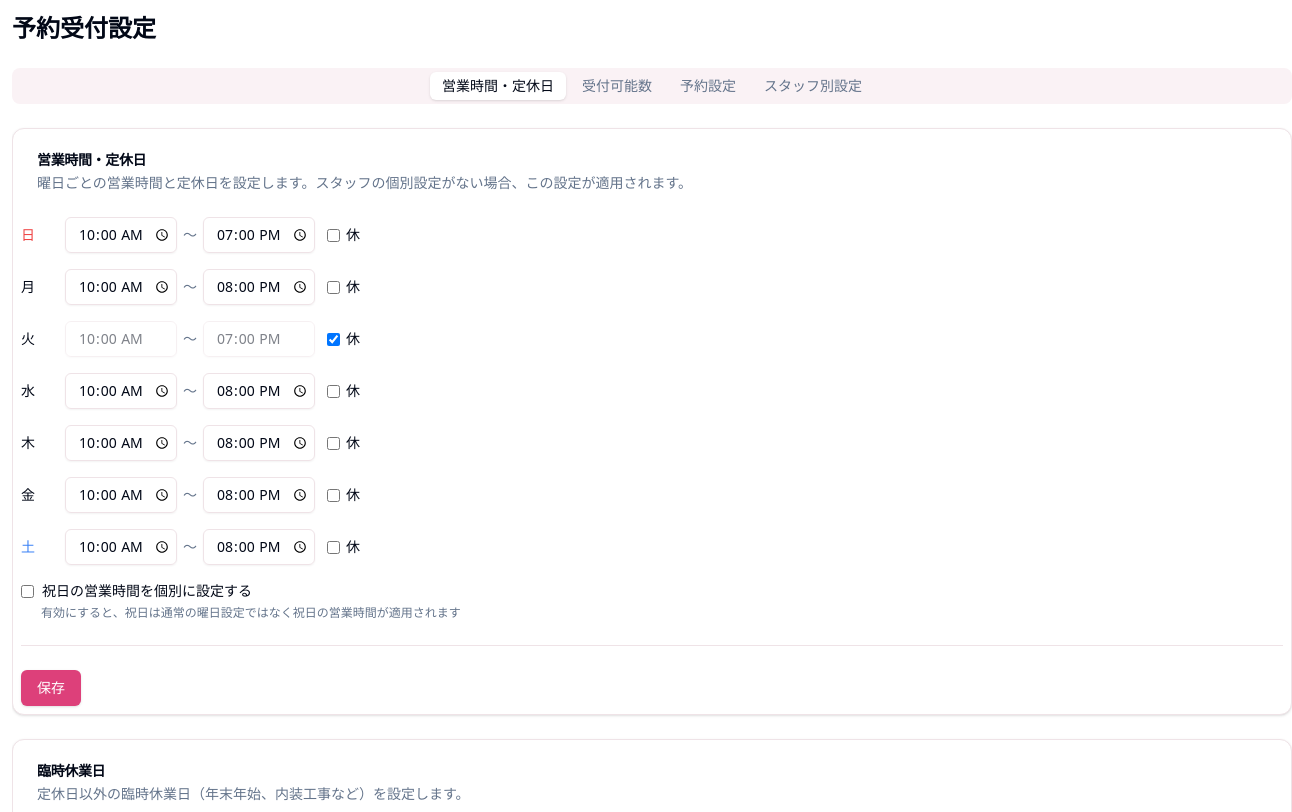
Test: ReservationSettings (予約受付設定) › 営業時間・定休日: one row per weekday, closed days are not sent, holiday hours have their own row
Expected: the heading "予約受付設定" is shown, [12, 11, 156, 44]
Expected: the tabs read "営業時間・定休日", "受付可能数", "予約設定", "スタッフ別設定", in this order, [430, 72, 566, 100]; [570, 72, 664, 100]; [668, 72, 748, 100]; [752, 72, 874, 100]
Replace the text in the time field named "月曜 開店" with "11:00" at (121,287), box [65, 269, 177, 305]
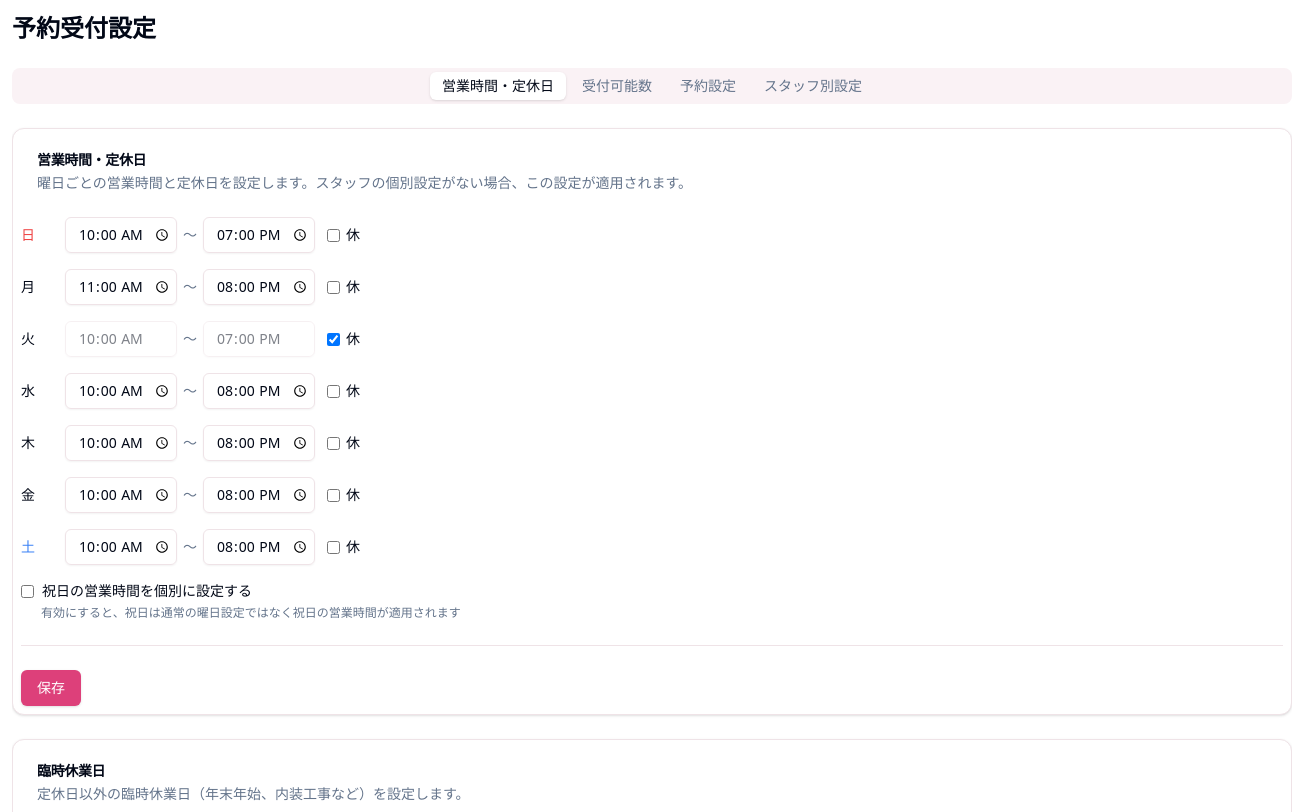
Click the checkbox named "水曜 休" at (334,391), box [327, 384, 340, 398]
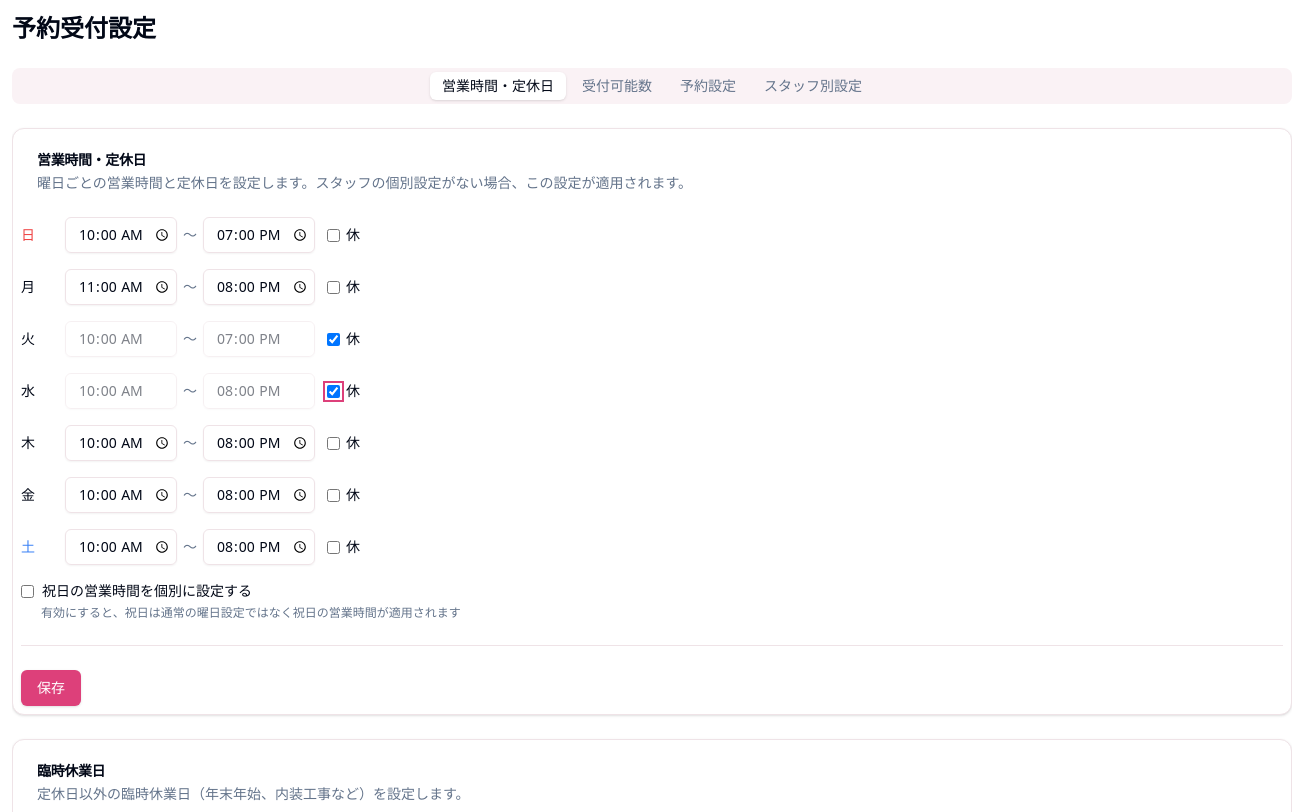
祝日の営業時間を個別に設定する is saved at once and adds the 祝 row
Click the checkbox labelled "祝日の営業時間を個別に設定する" at (28,591), box [21, 584, 34, 598]
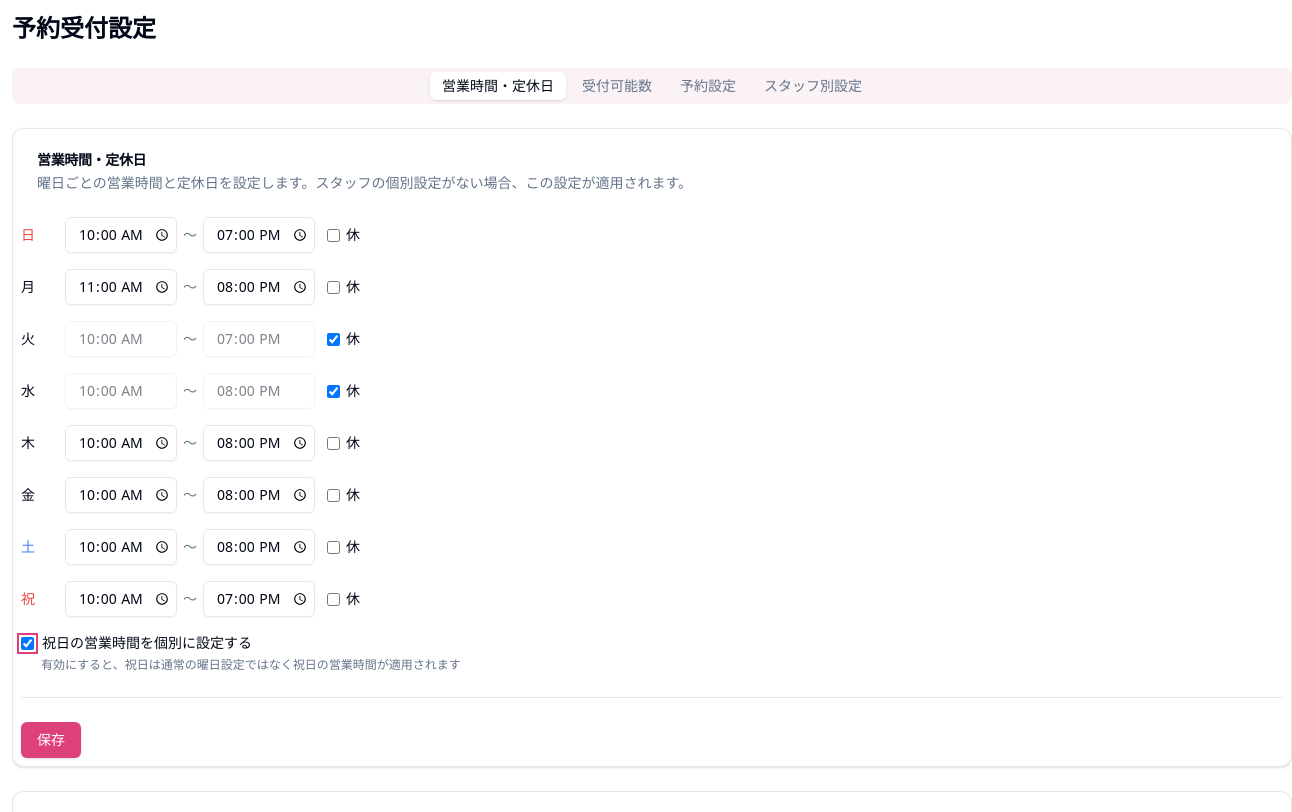
Replace the text in the time field named "祝日 閉店" with "18:00" at (259,599), box [203, 581, 315, 617]
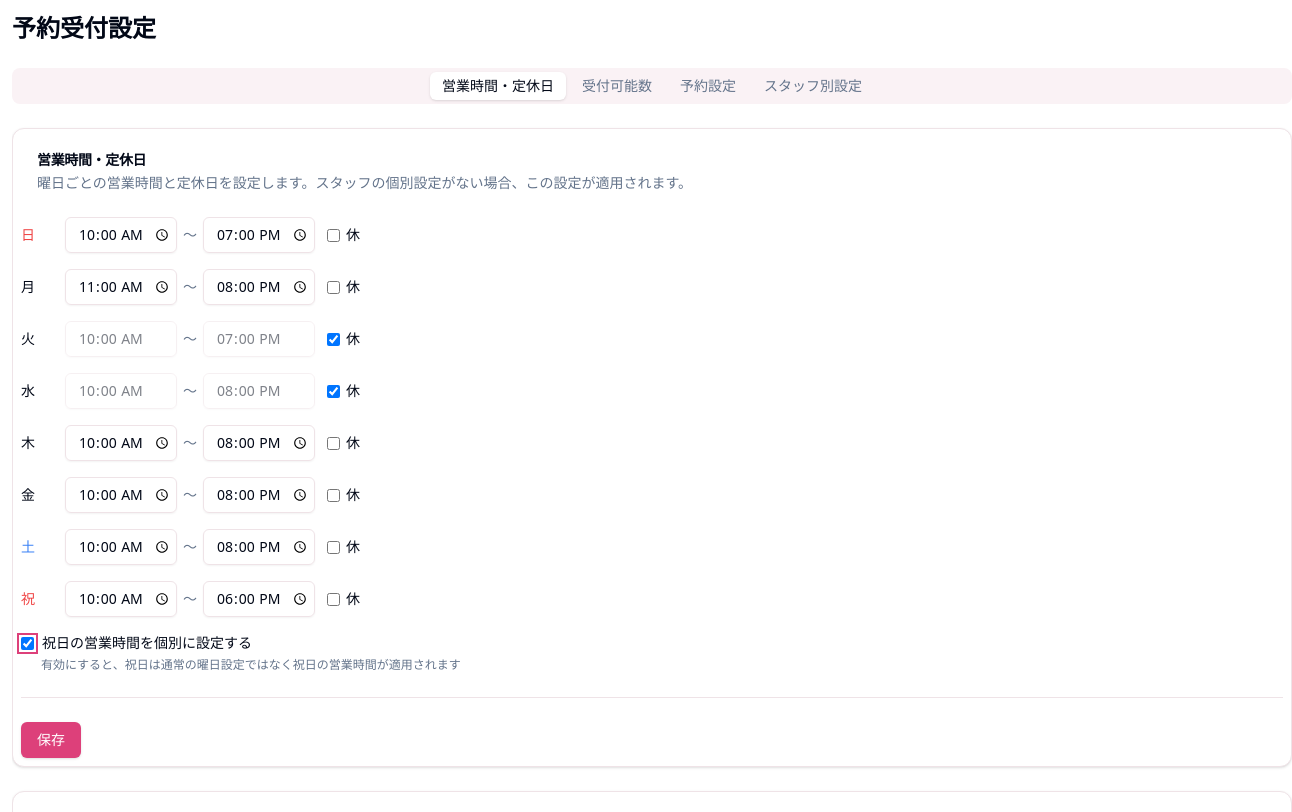
Click the button "保存" at (51,740), box [21, 722, 81, 758]
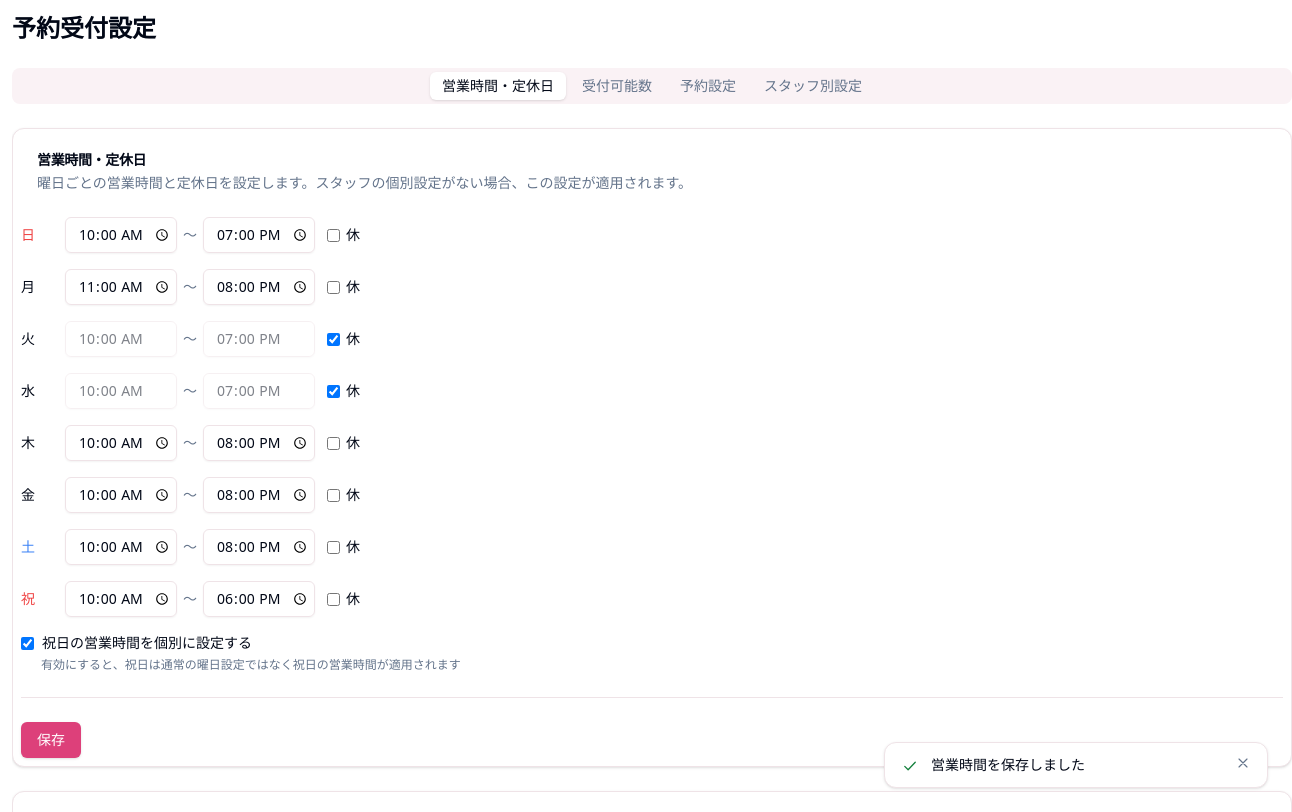
Expected: the text "営業時間を保存しました" is shown, [931, 755, 1085, 774]
